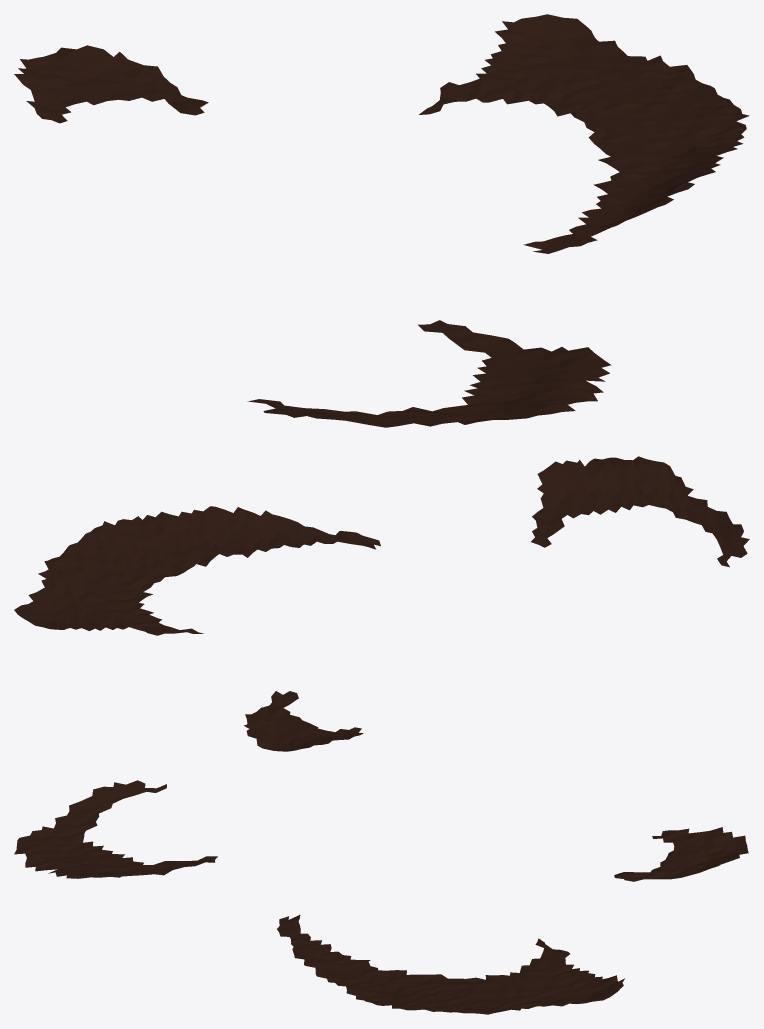
The model's file is ZEME_001_DUBLJI.FBX.
3 renders of one model, top to bottom at view 1: azimuth 30°, elevation 25°; view 2: azimuth 150°, elevation 25°; view 3: azimuth 270°, elevation 25°, orthographic. The views are drawn at different scales.
Visible parts, largest first — view 1: ZEME_001_DUBLJI; view 2: ZEME_001_DUBLJI; view 3: ZEME_001_DUBLJI.
Boxes of the visible parts, x1,y1,x2,y2 form: ZEME_001_DUBLJI: [14, 14, 749, 427]; ZEME_001_DUBLJI: [14, 456, 749, 751]; ZEME_001_DUBLJI: [14, 780, 748, 1014].
Bounding box in the file's own units: 96349 × 2899 × 126196.
